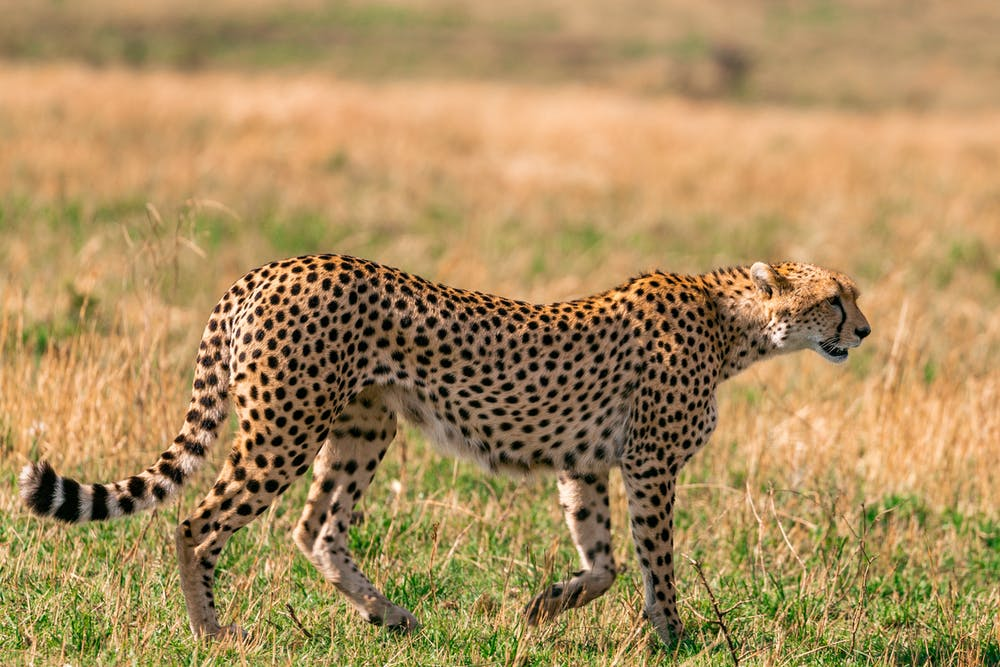cheetah: (740, 251, 879, 371)
